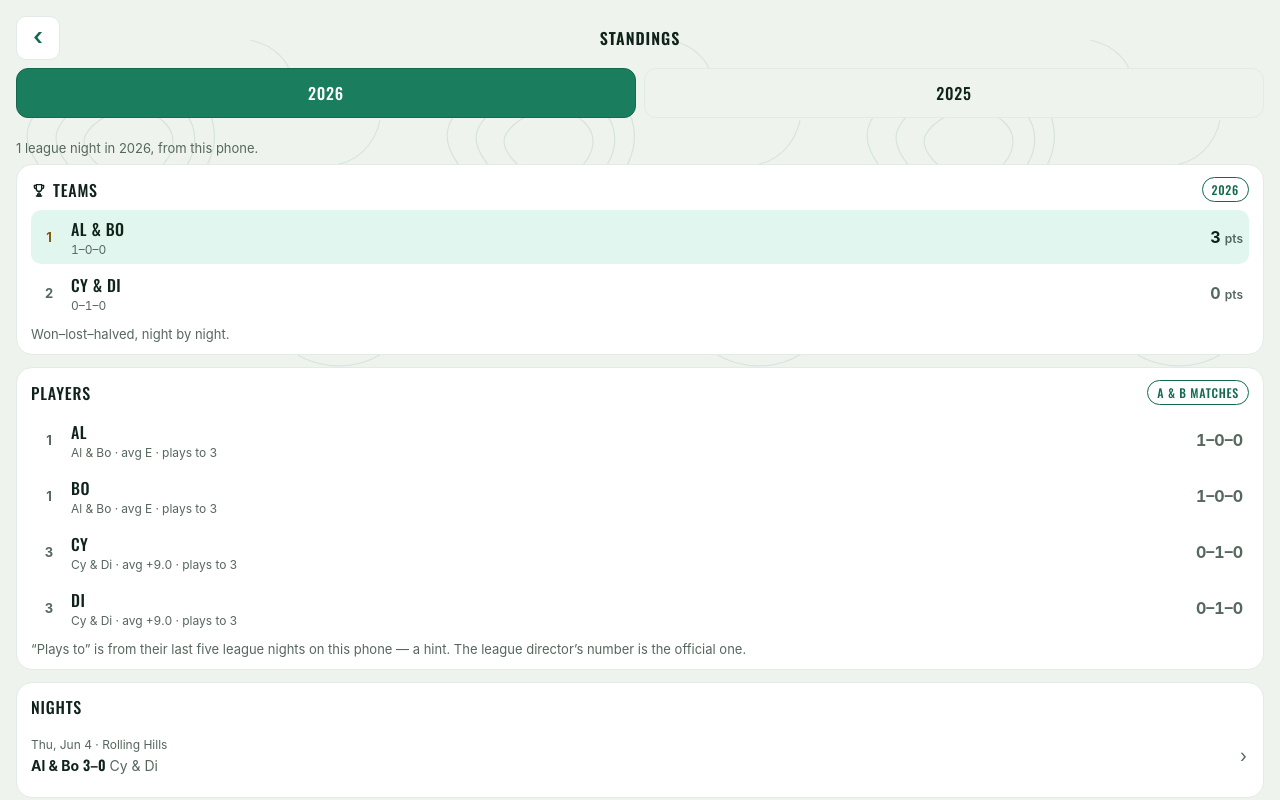
Test case: League standings › offers a season switch only when there is more than one season
Step 1. Click the button "2025" → (954, 93), box top-left (644, 68), bottom-right (1264, 118)
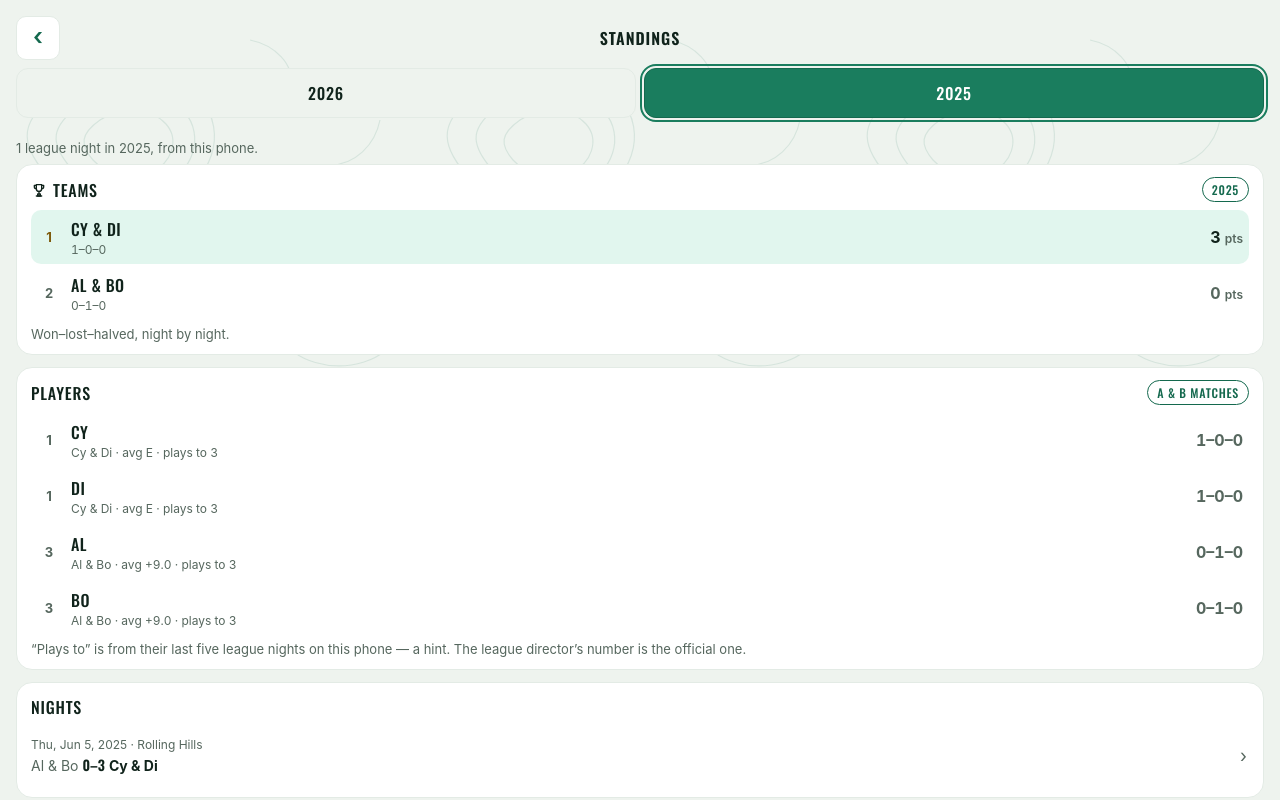
Expected: the list item with class "standings-row" shows "Cy & Di", top-left (71, 217), bottom-right (121, 241)
Now the text "1 league night in 2025, from this phone." is shown, box top-left (16, 140), bottom-right (258, 156)
